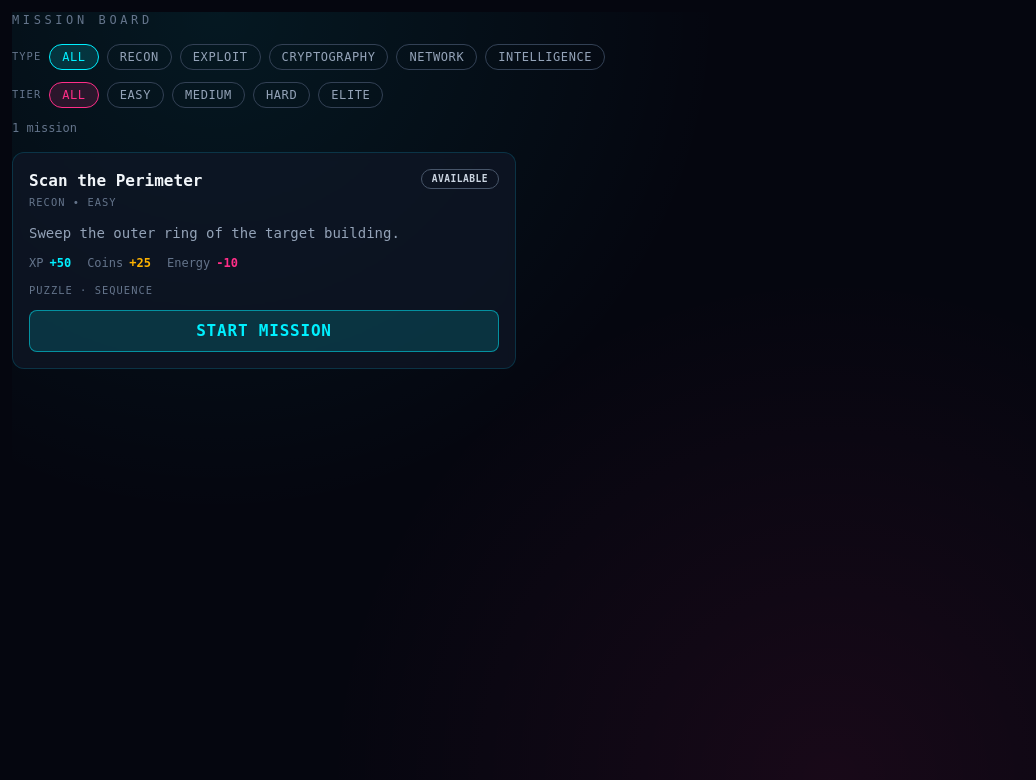
Test: MissionBoard › shows an empty state when no mission matches the filters
The width and height of the screenshot is (1036, 780).
expect the heading "Scan the Perimeter" is shown: met, box [29,169,202,193]
Click the button "NETWORK". click: (437, 57)
box: [396,44,477,70]
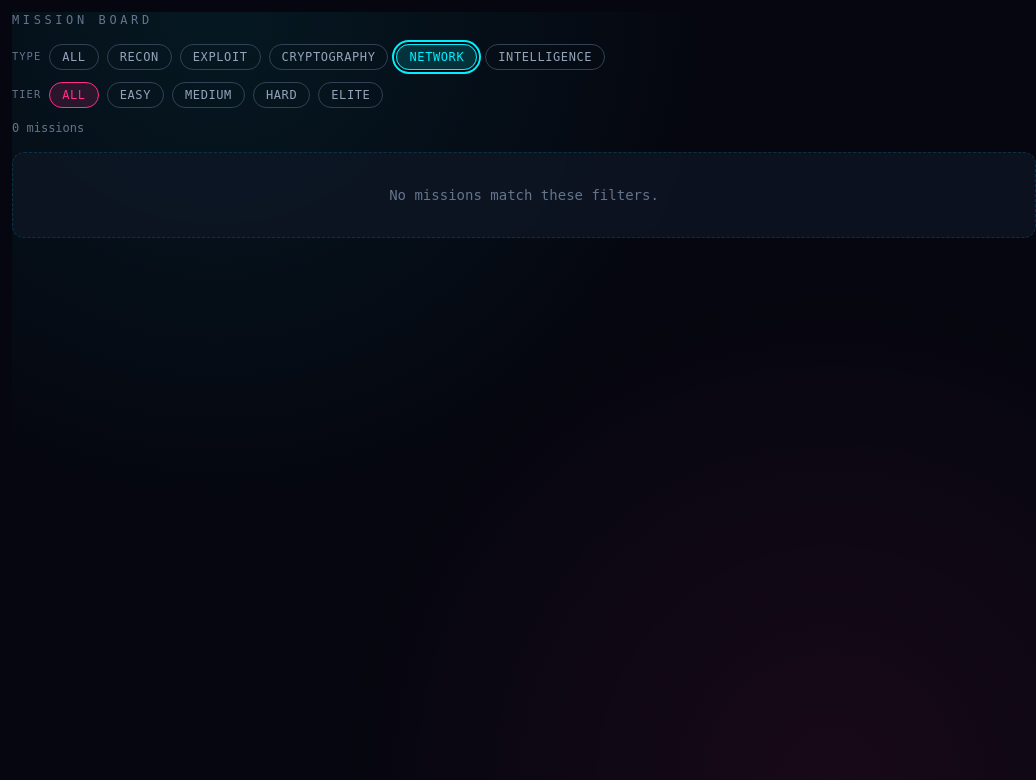
expect the text "No missions match these filters." is shown: met, box [12,152,1035,238]
